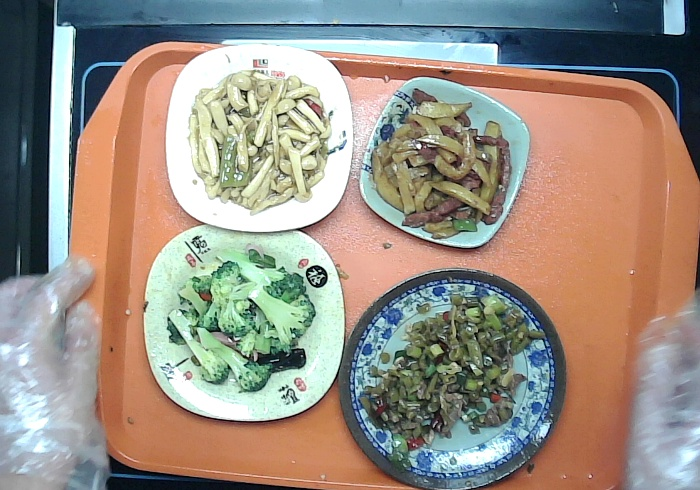NLDX-Bai_Se_Xiao_Fang_Die: (163, 41, 356, 235)
NLDX-Fu_Zi_Fang_Die: (141, 220, 346, 425)
NLDX-Qing_Hua_Xiao_Fang_Die: (356, 75, 532, 251)
NLDX-Qing_Hua_Yuan_Die: (336, 265, 568, 490)
